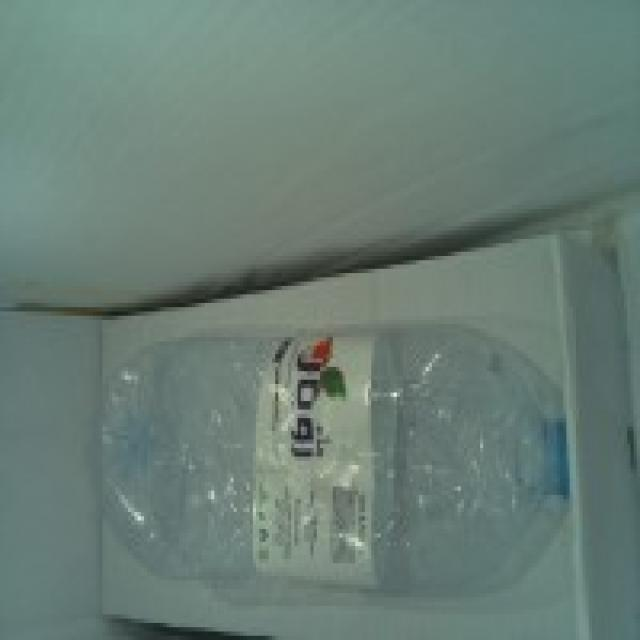Anorganik: (90, 324, 582, 598)
